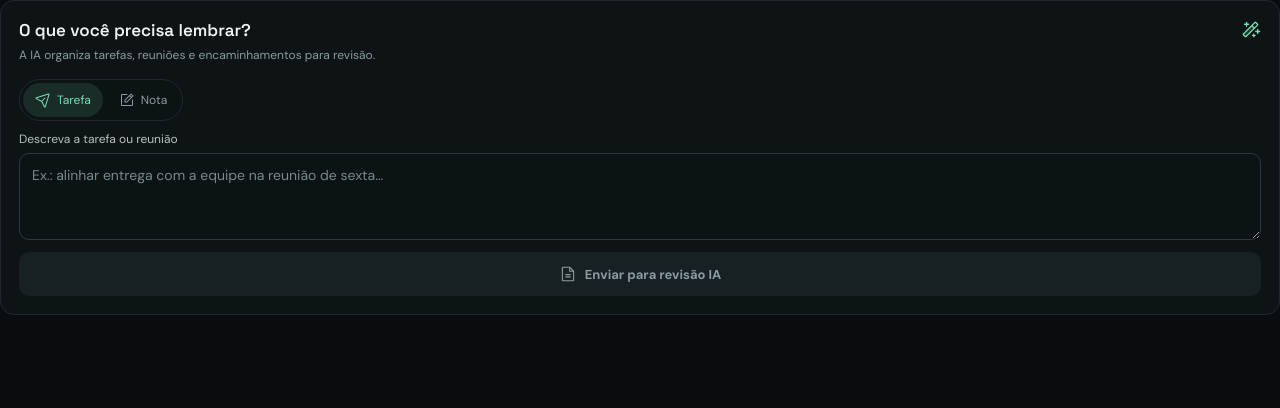
Scenario: TodayCapture › exige um projeto antes de habilitar o salvamento de nota
This screenshot has width=1280, height=408.
Click the button "Nota".
click(143, 100)  # box left=107, top=83, right=179, bottom=117
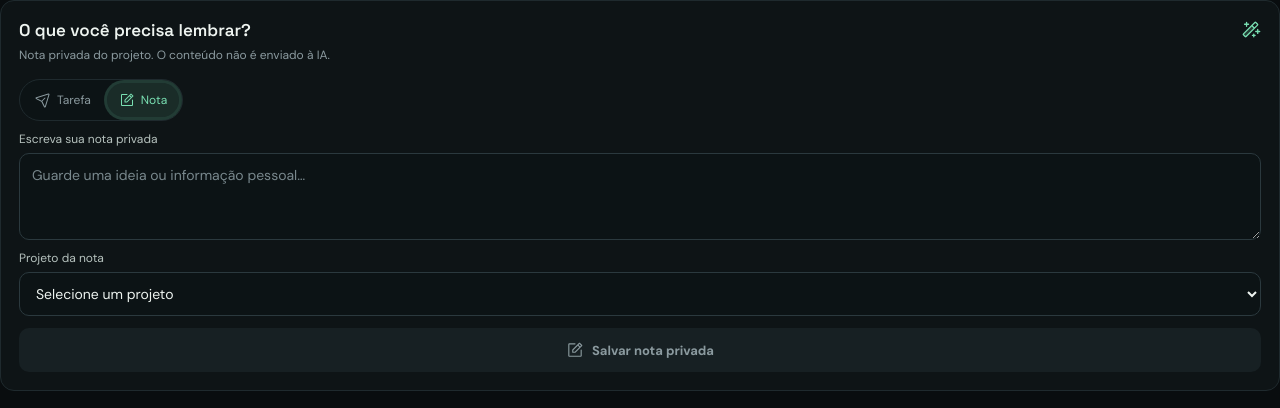
Type "Nota do projeto" into the text box named "O que você precisa lembrar?".
click(640, 197); type("Nota do projeto")  # box left=19, top=153, right=1261, bottom=240
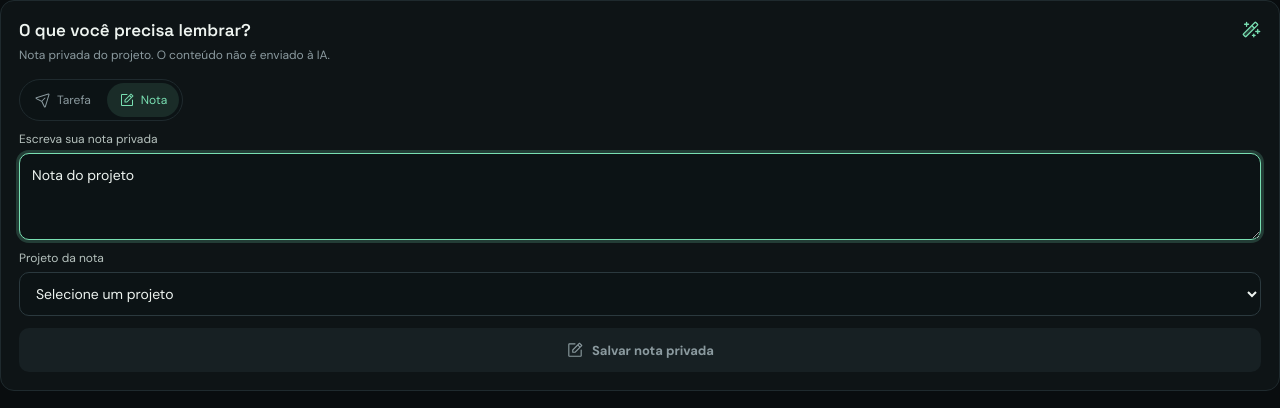
Expected: the button "Salvar nota privada" is disabled, left=19, top=328, right=1261, bottom=372
Select "Central" in the dropdown labelled "Projeto da nota" at (640, 294), box left=19, top=272, right=1261, bottom=316
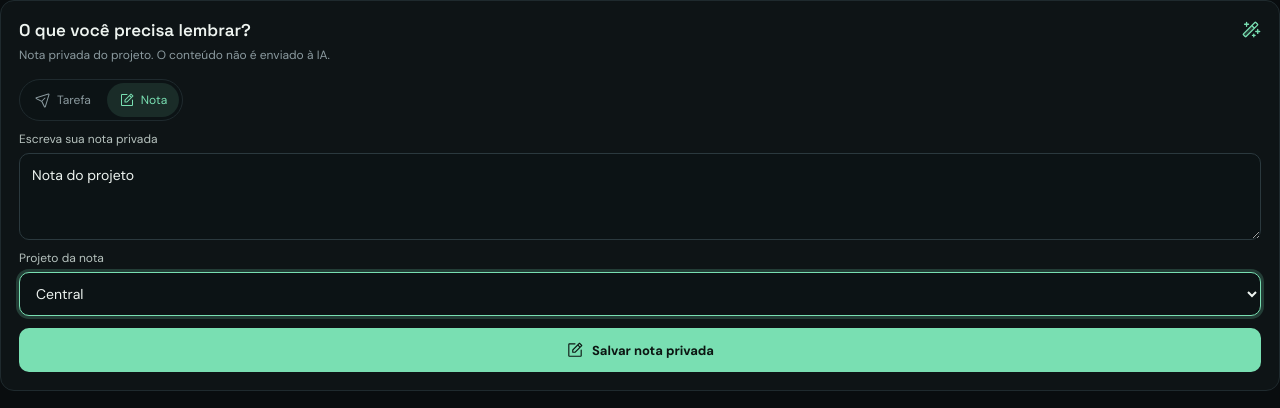
Expected: the button "Salvar nota privada" is enabled, left=19, top=328, right=1261, bottom=372
